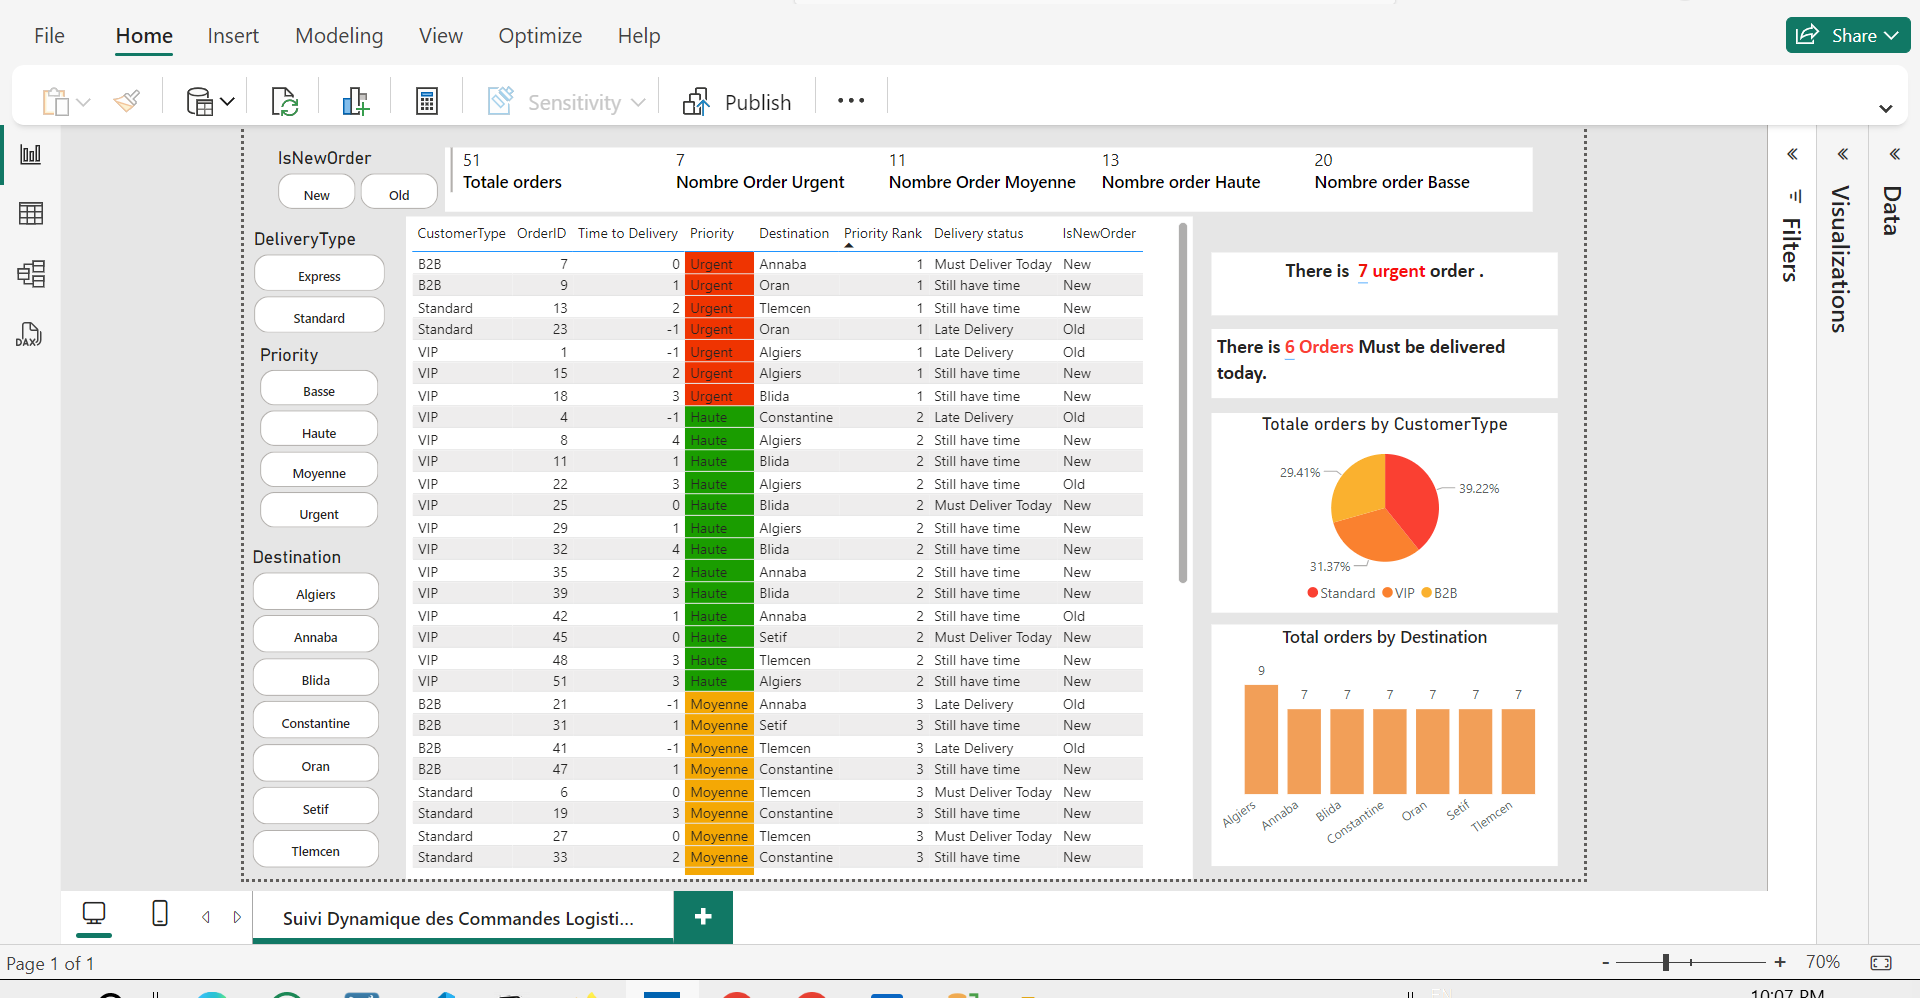

This screenshot's page, from the dashboard's own definition file:
{"tool":"powerbi","page":{"name":"Suivi Dynamique des Commandes Logistiques","canvas":[1280,720],"ordinal":0},"visuals":[{"type":"tableEx","fields":{"Values":["Orders.CustomerType","Orders.OrderID","#Measures.Time to Delivery","Orders.Priority","Orders.Destination","#Measures.Priority Rank","#Measures.Delivery status","Orders.IsNewOrder"]},"box":[154.5,87.8,751.5,632.7],"z":0},{"type":"advancedSlicerVisual","fields":{"Values":["Orders.Priority"]},"box":[10.5,208.9,123.4,181.2],"z":1000},{"type":"advancedSlicerVisual","fields":{"Values":["Orders.Destination"]},"box":[2.6,402.6,131.2,317.2],"z":2000},{"type":"advancedSlicerVisual","fields":{"Values":["Orders.DeliveryType"]},"box":[4.3,98.7,135,105.7],"z":3000},{"type":"multiRowCard","fields":{"Values":["#Measures.Totale orders","#Measures.Nombre Order Urgent","#Measures.Nombre Order Moyenne","#Measures.Nombre order Haute","#Measures.Nombre order Basse"]},"box":[192.5,21,1038.5,61.5],"z":4000},{"type":"columnChart","title":"Total orders by Destination","fields":{"Y":["#Measures.Totale orders"],"Category":["Orders.Destination"]},"box":[923.9,477,330.9,230.6],"z":5000},{"type":"textbox","box":[923.9,121.8,330.9,60.2],"z":6000},{"type":"pieChart","fields":{"Category":["Orders.CustomerType"],"Y":["#Measures.Totale orders"]},"box":[923.9,275,330.9,190.5],"z":7000},{"type":"advancedSlicerVisual","fields":{"Values":["Orders.IsNewOrder"]},"box":[27.7,21.1,164.3,63.4],"z":7001},{"type":"textbox","box":[923.9,194.8,330.9,65.9],"z":7002}]}

Visuals, with their boxes on the page's 1280x720 design canvas (x1, y1, x2, y2). These are canvas units, not pixel positions in the 1920x998 screenshot, which may show the page scaled, cropped or inside an application window:
tableEx - Orders.CustomerType x Orders.OrderID: 154:88:906:720
advancedSlicerVisual - Orders.Priority: 10:209:134:390
advancedSlicerVisual - Orders.Destination: 3:403:134:720
advancedSlicerVisual - Orders.DeliveryType: 4:99:139:204
multiRowCard - #Measures.Totale orders x #Measures.Nombre Order Urgent: 192:21:1231:82
"Total orders by Destination" columnChart: 924:477:1255:708
textbox: 924:122:1255:182
pieChart - Orders.CustomerType x #Measures.Totale orders: 924:275:1255:466
advancedSlicerVisual - Orders.IsNewOrder: 28:21:192:84
textbox: 924:195:1255:261
